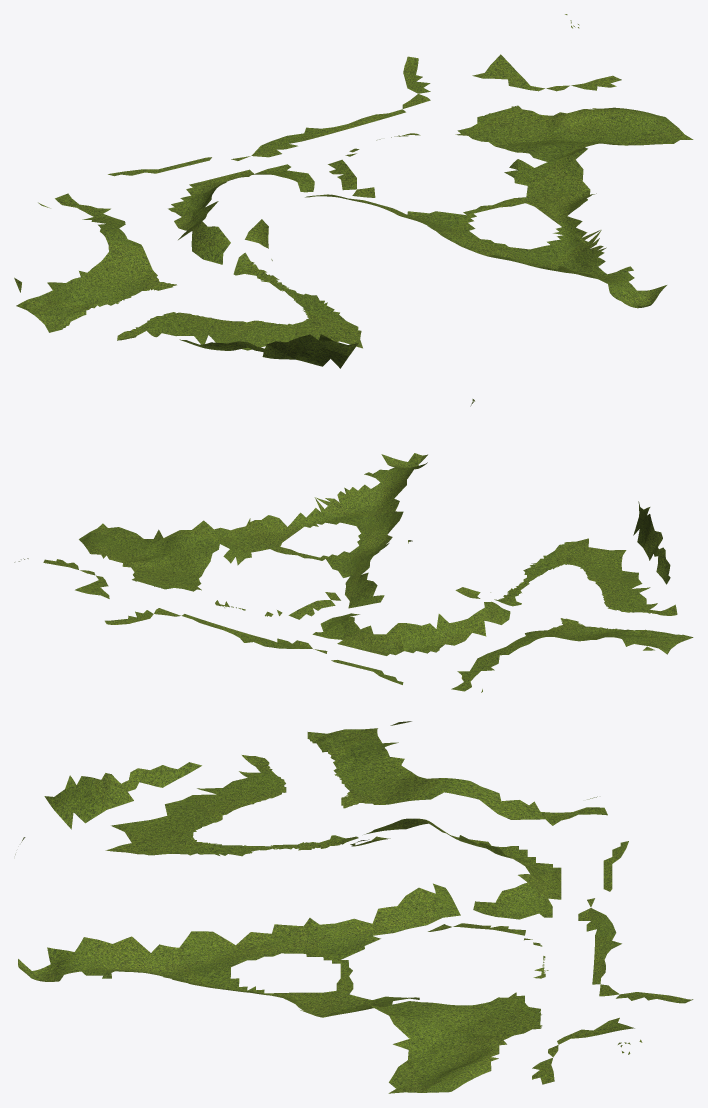
Rendered from grass.obj.
3 renders of one model, top to bottom at view 1: azimuth 30°, elevation 25°; view 2: azimuth 150°, elevation 25°; view 3: azimuth 270°, elevation 25°, orthographic. The views are drawn at different scales.
Parts seen in each view (by area): view 1: Grass_Plane.017; view 2: Grass_Plane.017; view 3: Grass_Plane.017.
Part boxes in pixels (left/top/right/bottom): Grass_Plane.017: left=14, top=14, right=693, bottom=368; Grass_Plane.017: left=14, top=399, right=693, bottom=692; Grass_Plane.017: left=15, top=721, right=693, bottom=1093.
Size of the model in its own units: 40.05 by 5.75 by 31.81.
